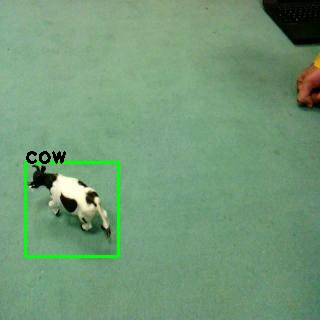cow: (21, 162, 115, 242)
